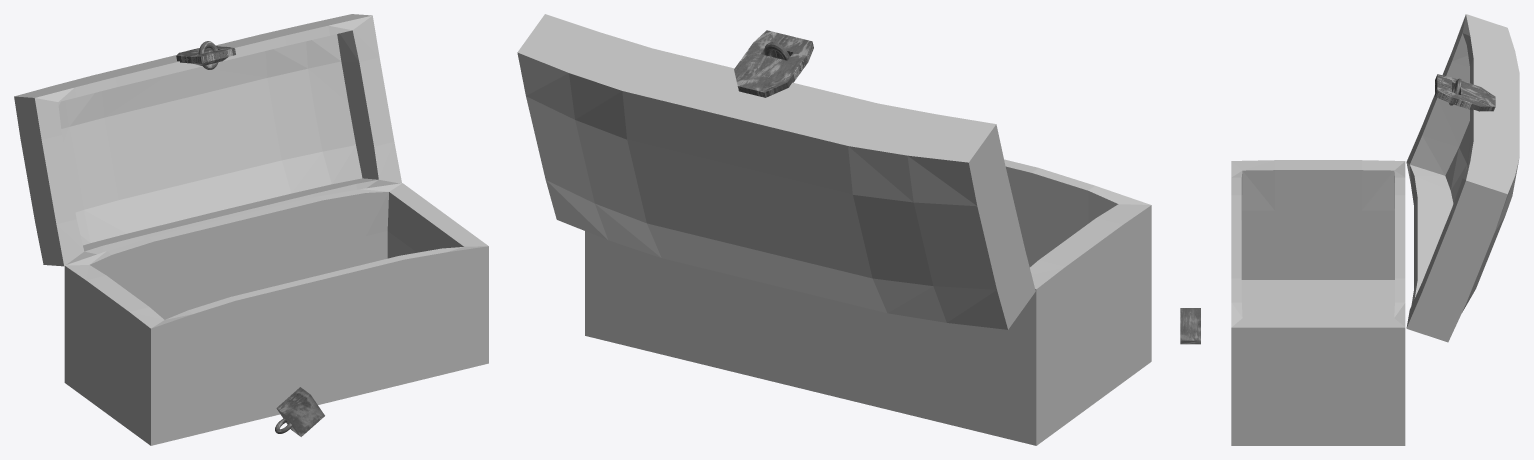
File: skrinjaodprta.gltf
3 renders of one model, left to right at view 1: azimuth 30°, elevation 25°; view 2: azimuth 150°, elevation 25°; view 3: azimuth 270°, elevation 25°, orthographic. The views are drawn at different scales.
Visible parts, largest first — view 1: Cube, Cube.001, Cube.002, Plane.001; view 2: Cube.001, Cube, Plane.001; view 3: Cube, Cube.001, Plane.001, Cube.002.
Boxes of the visible parts, box(x1,y1,x2,y2) form: Cube: box(64, 183, 488, 445); Cube.001: box(14, 14, 401, 266); Cube.002: box(276, 387, 324, 436); Plane.001: box(176, 46, 235, 65); Cube.001: box(517, 14, 1035, 329); Cube: box(585, 159, 1151, 445); Plane.001: box(734, 30, 813, 97); Cube: box(1231, 160, 1405, 445); Cube.001: box(1406, 14, 1519, 342); Plane.001: box(1435, 74, 1495, 111); Cube.002: box(1180, 308, 1200, 344).
Bounding box in the file's own units: 4.53 × 3.63 × 3.9.
